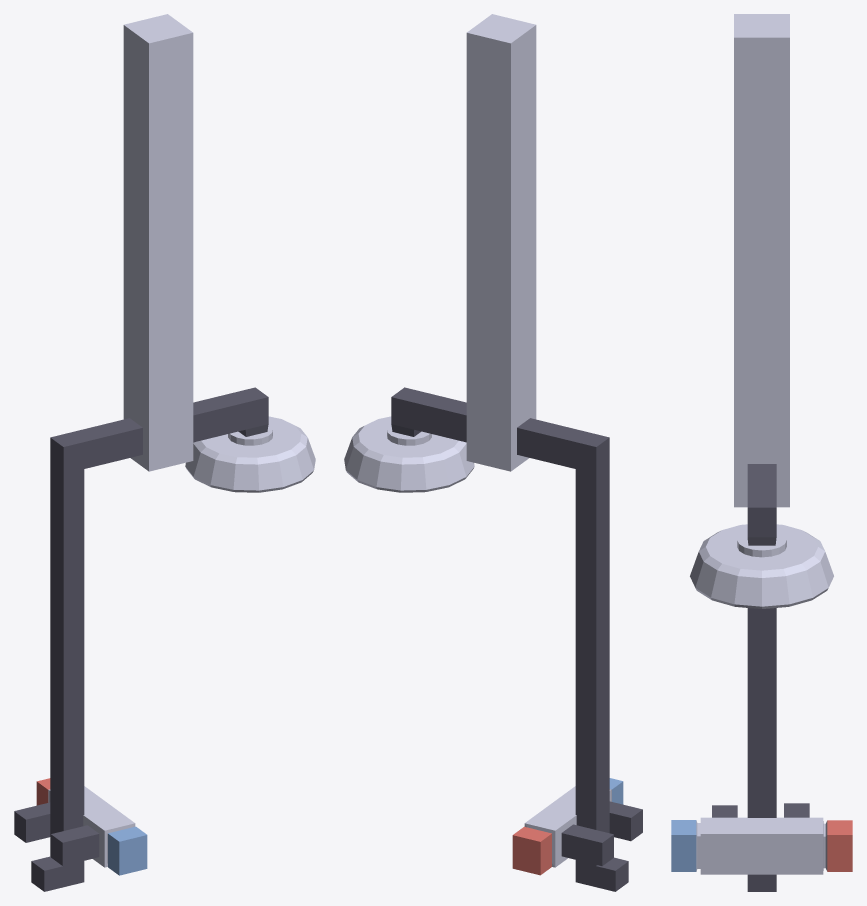
File: showerhead.fbx
3 renders of one model, left to right at view 1: azimuth 30°, elevation 25°; view 2: azimuth 150°, elevation 25°; view 3: azimuth 270°, elevation 25°, orthographic. The views are drawn at different scales.
Visible parts, largest first — view 1: Cube.095; view 2: Cube.095; view 3: Cube.095.
Boxes of the visible parts, x1,y1,x2,y2 form: Cube.095: (14, 14, 315, 891); Cube.095: (344, 14, 642, 891); Cube.095: (671, 14, 852, 891).
Size of the model in its own units: 217 by 633 by 114.
